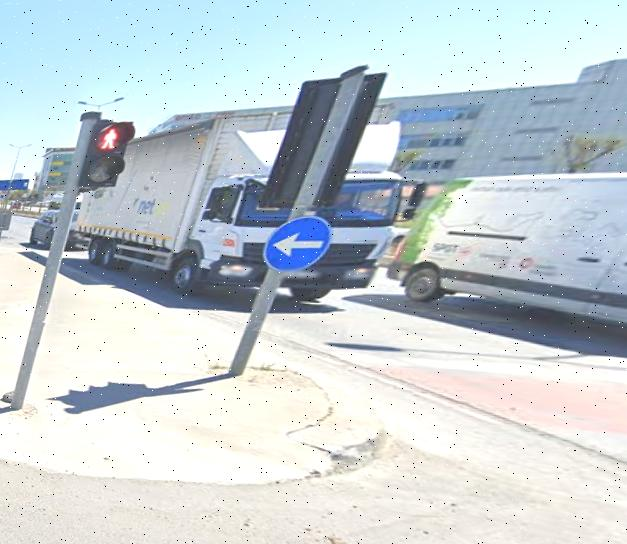turnleft: (265, 217, 331, 274)
